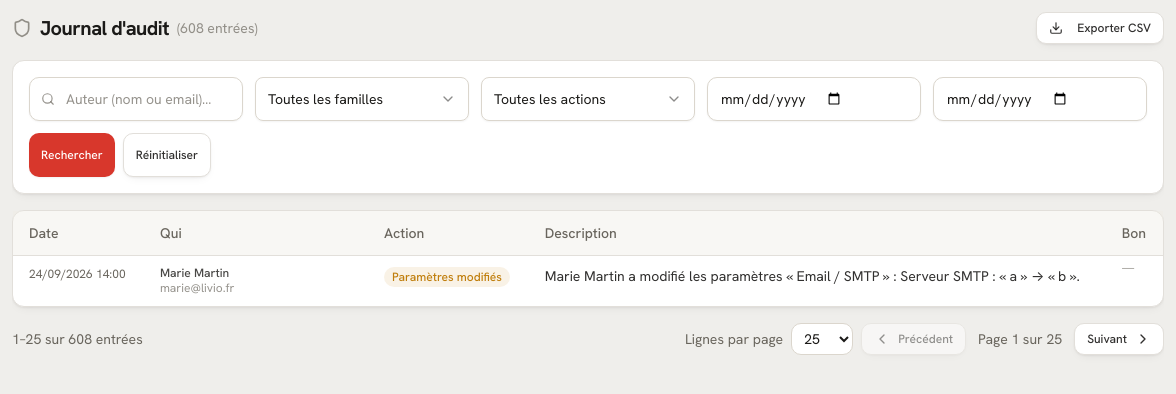
Test case: AuditLogsPage › écrit la page suivante dans l’adresse
Expected: the navigation bar named "Pagination" is shown, [12, 323, 1164, 355]
Click the button with aria-label "Page suivante".
click(1119, 339)  # box [1074, 323, 1164, 355]
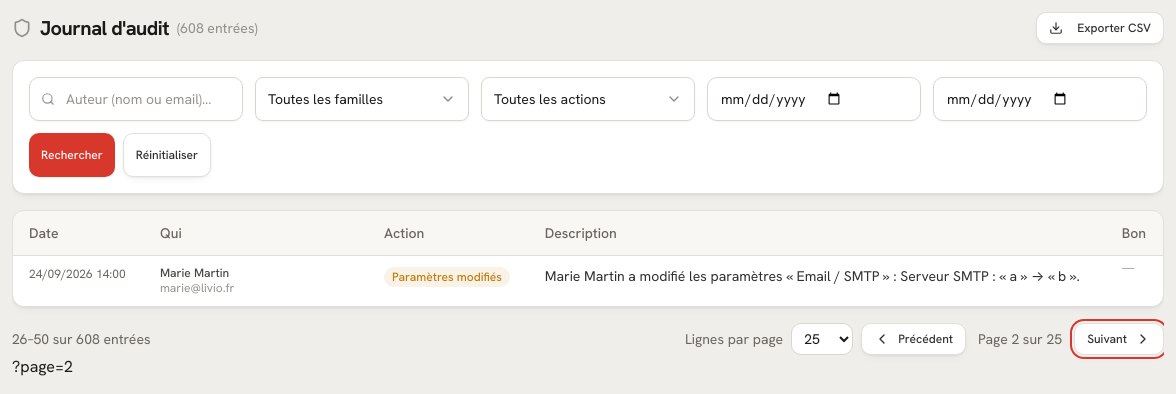
Expected: the text with test id "location" reads "?page=2", [12, 356, 73, 377]
